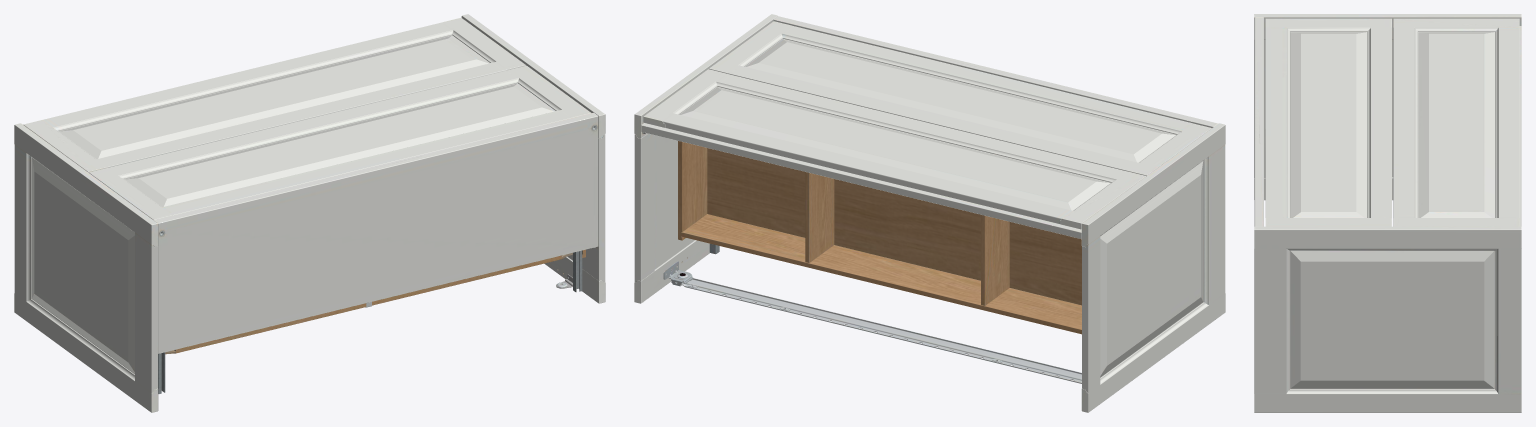
File: tannforsen_szafka_umywalkowa_z_szufladami_30535114.glb
3 renders of one model, left to right at view 1: azimuth 30°, elevation 25°; view 2: azimuth 150°, elevation 25°; view 3: azimuth 270°, elevation 25°, orthographic. The views are drawn at different scales.
Visible parts, largest first — view 1: tannforsen_szafka_umywalkowa_z_szufladami_30535114; view 2: tannforsen_szafka_umywalkowa_z_szufladami_30535114; view 3: tannforsen_szafka_umywalkowa_z_szufladami_30535114.
Boxes of the visible parts, x1,y1,x2,y2 form: tannforsen_szafka_umywalkowa_z_szufladami_30535114: (14,14,605,412); tannforsen_szafka_umywalkowa_z_szufladami_30535114: (634,14,1225,412); tannforsen_szafka_umywalkowa_z_szufladami_30535114: (1254,14,1521,412).
Bounding box in the file's own units: 1.2 × 0.4751 × 0.628.
1 material, 1 textured.
